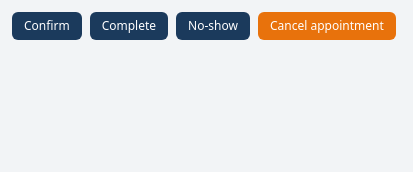
stale status failure stays visible and never reports a successful update
Click the button "Complete". click: click(129, 26)
box: [90,12,168,40]
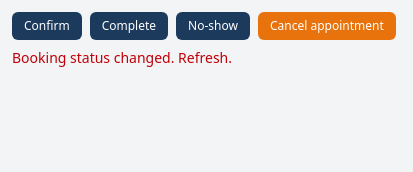
Expected: the message "Booking status changed. Refresh." is shown, [12,48,232,67]
